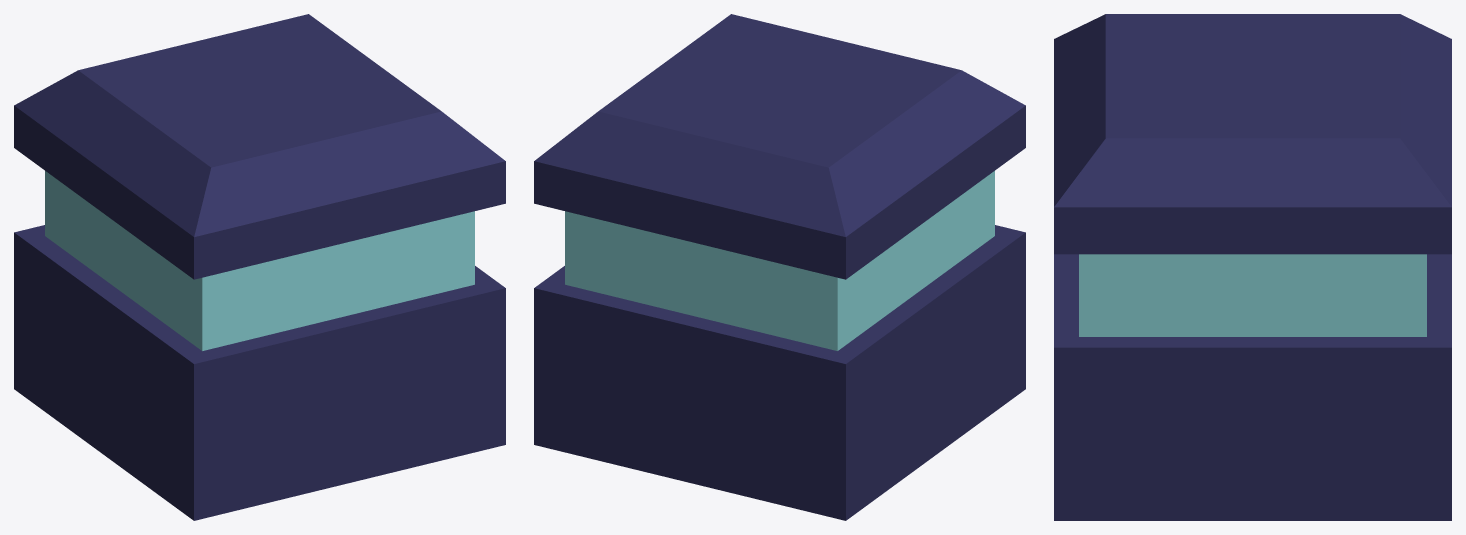
3 views of the same model, side by side, from view 1: azimuth 30°, elevation 25°; view 2: azimuth 150°, elevation 25°; view 3: azimuth 270°, elevation 25° (orthographic). The views are drawn at different scales.
Parts seen in each view (by area): view 1: pCube8; view 2: pCube8; view 3: pCube8.
Part boxes in pixels (box(x1,y1,x2,y2)): pCube8: box(14, 14, 505, 520); pCube8: box(534, 14, 1025, 520); pCube8: box(1054, 14, 1451, 520).
Size of the model in its own units: 1 by 1 by 1.
